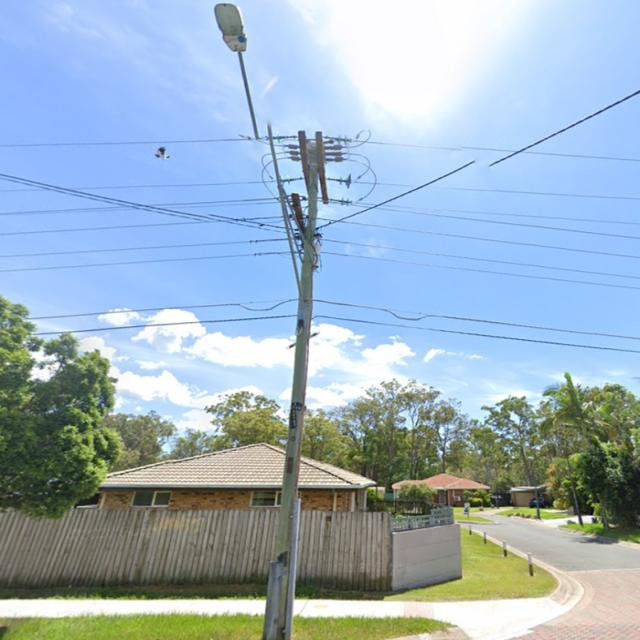HV-switch: (286, 140, 346, 165)
HV-transmission: (274, 128, 352, 204)
crossarm: (300, 130, 330, 205), (290, 193, 307, 246)
streetlight: (214, 2, 306, 303)
timber-pole: (263, 162, 319, 640)
